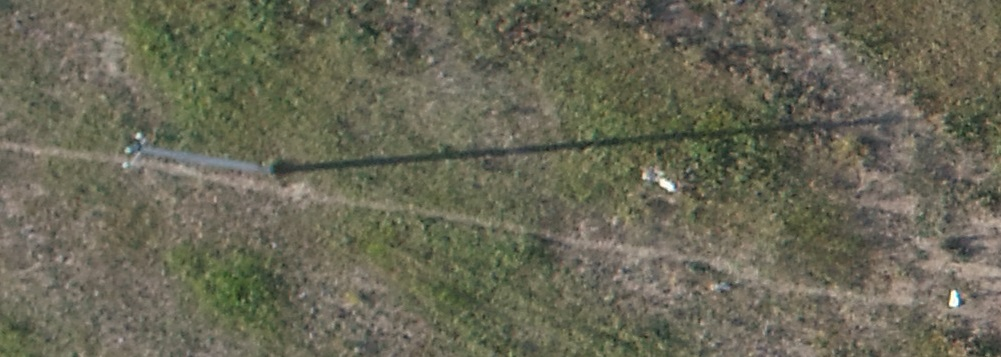opora: (119, 124, 371, 180)
